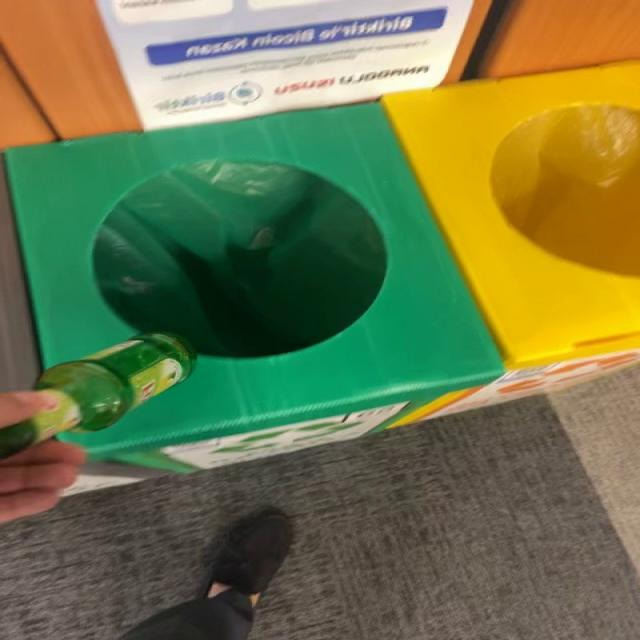glass: (0, 334, 196, 458)
